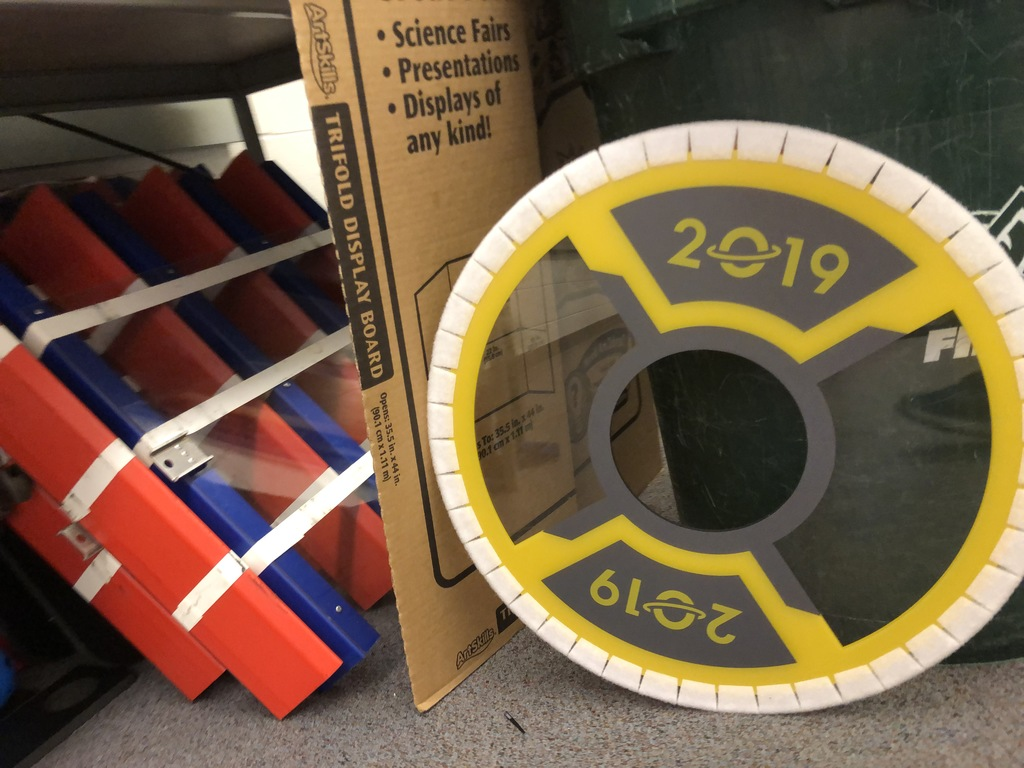hatch_panel: (411, 103, 1016, 730)
